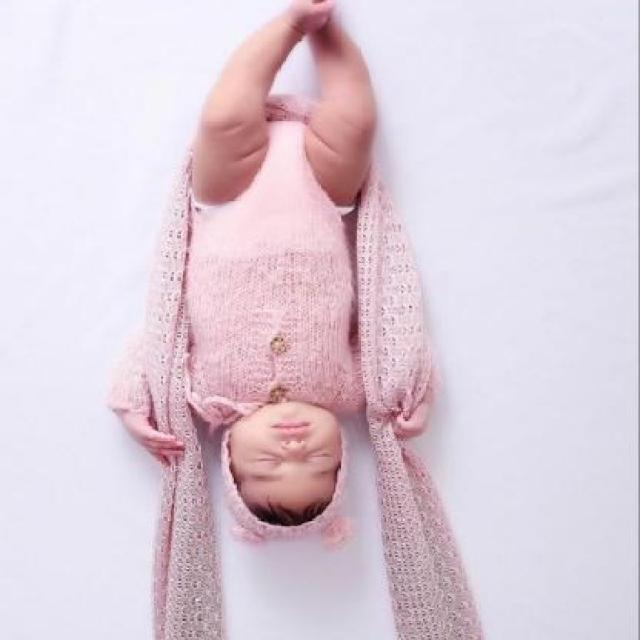baby: (106, 1, 429, 554)
